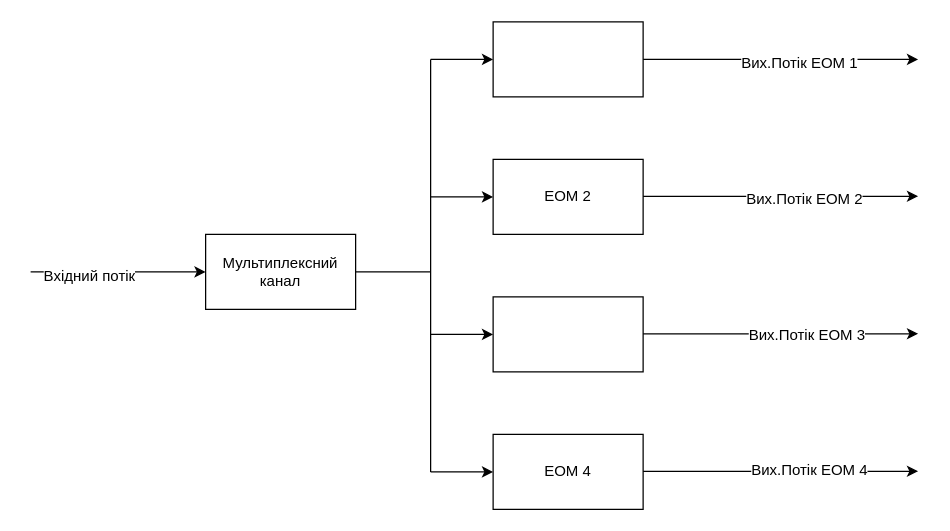
This 950x531 diagram has some shape labels left out. Each missing label, with the centre of its shape:
"ЕОМ 1" goes at [567,59].
"ЕОМ 3" goes at [567,334].
